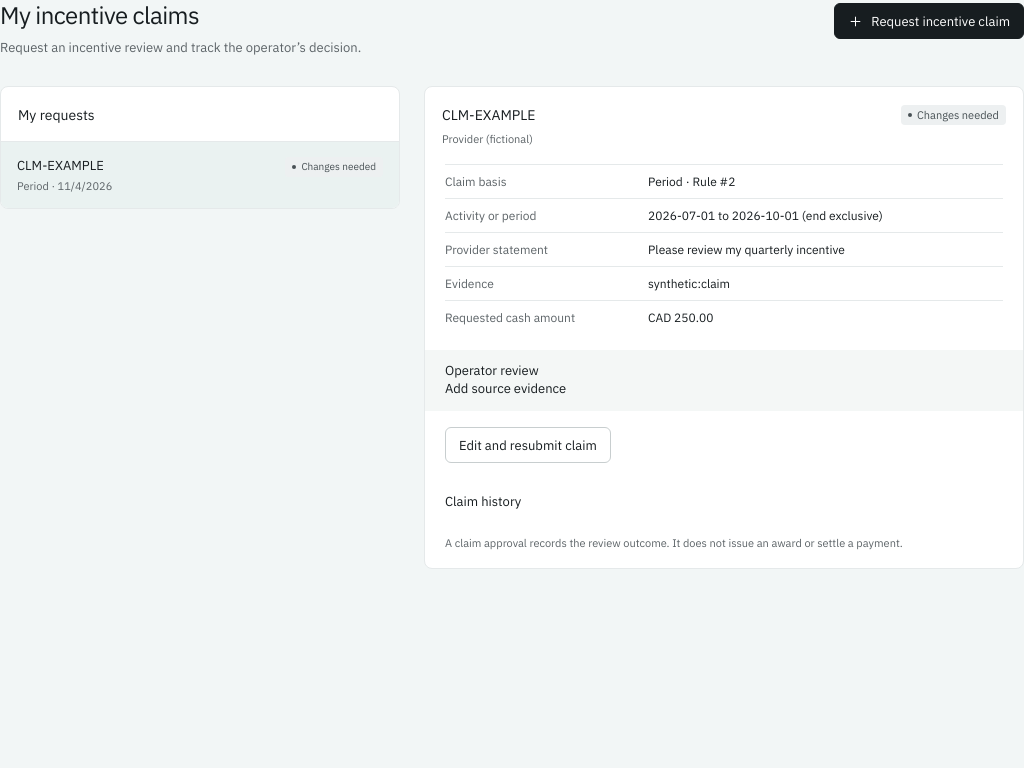
it: public provider and operator workflow › provider can edit only a claim returned for changes
The width and height of the screenshot is (1024, 768).
Click the button "Edit and resubmit claim": (528,445) [445,427,611,463]
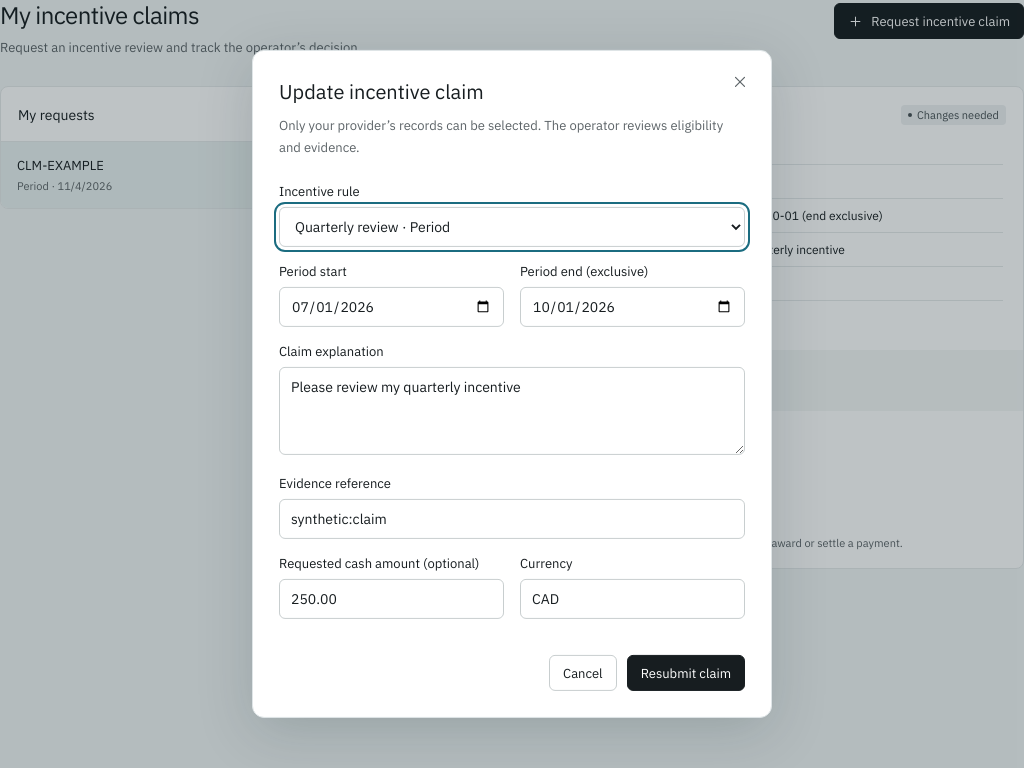
Check: the dialog "Update incentive claim" is shown, box [252,50,772,718]
Check: the field labelled "Evidence reference" holds "synthetic:claim", box [279,499,745,539]
